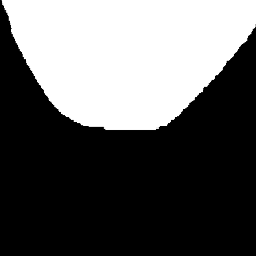mass: (19, 1, 248, 102)
